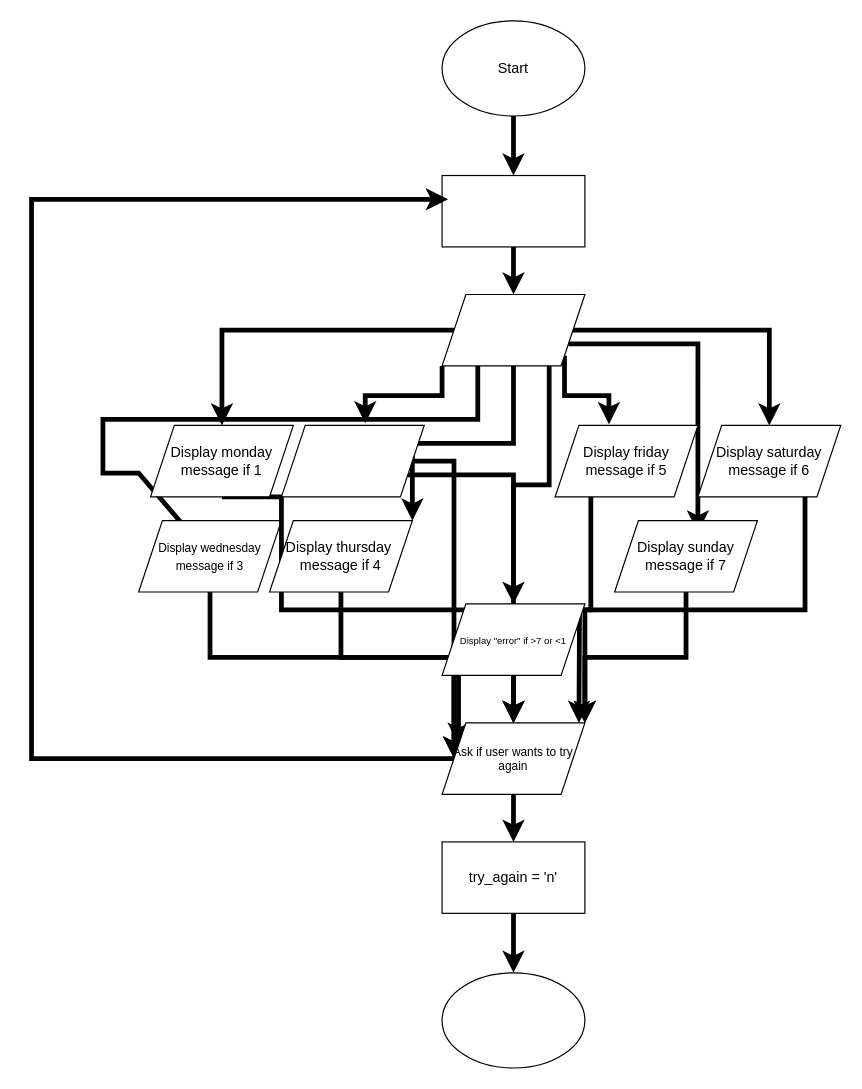
Image size: 862x1089. Some labels were removed from this diagram. Here are the shapes that lost their labels. From the top down, the centre of each, then its label:
point 513,210: try_again = 'y'
point 513,329: User is asked to input 1-7
point 352,460: Display tuesday message if 2
point 513,1020: End
